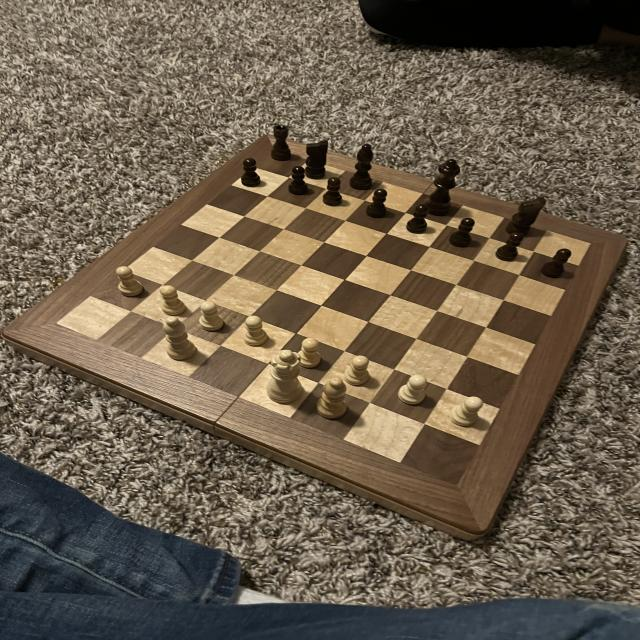bishop: (346, 144, 379, 190)
black-bishop: (421, 158, 463, 216)
black-king: (504, 195, 546, 237), (302, 138, 334, 181)
black-knight: (493, 232, 526, 263), (363, 188, 393, 220), (448, 217, 478, 249), (540, 248, 572, 278), (239, 157, 265, 188), (320, 176, 346, 207), (286, 165, 311, 197), (406, 203, 431, 235)
black-queen: (268, 123, 296, 162)
black-rook: (314, 376, 351, 422), (161, 316, 196, 364)
white-knight: (449, 395, 486, 429), (397, 372, 431, 406), (342, 352, 374, 388), (157, 284, 190, 318), (115, 265, 146, 299), (240, 313, 270, 348), (296, 335, 325, 369), (196, 300, 227, 331)
white-pawn: (264, 348, 304, 405)
